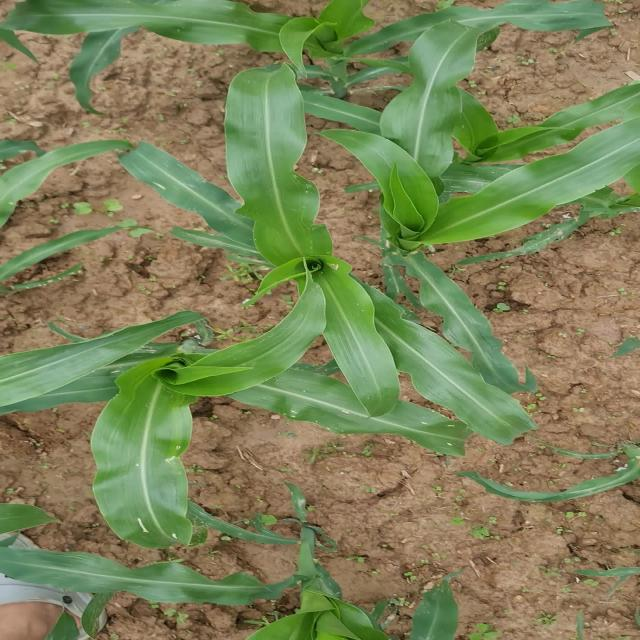maize: (111, 108, 516, 438), (40, 294, 373, 518), (348, 40, 612, 316), (105, 514, 477, 638), (41, 5, 640, 53), (487, 434, 640, 508)
